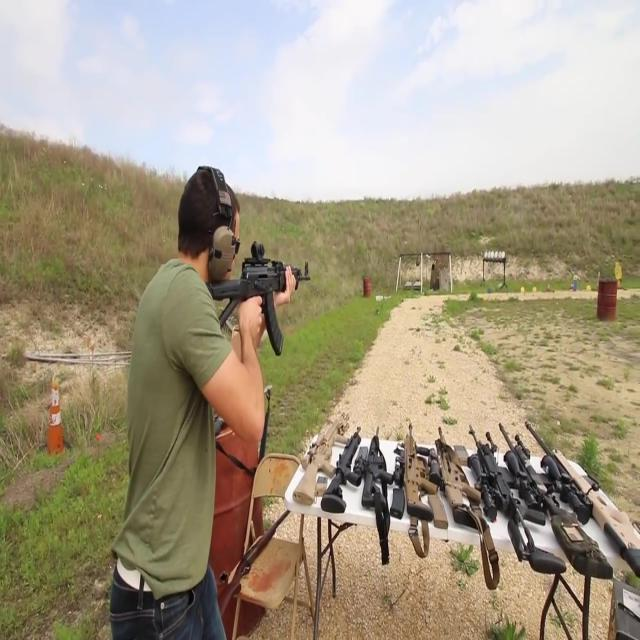Weapon: (281, 388, 640, 585), (168, 205, 319, 359), (193, 498, 311, 617)
